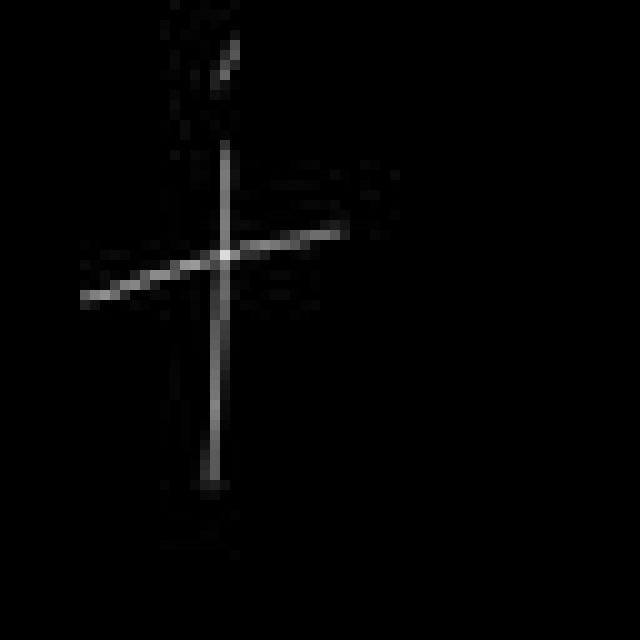1000 -a thousand-: (70, 32, 356, 496)
